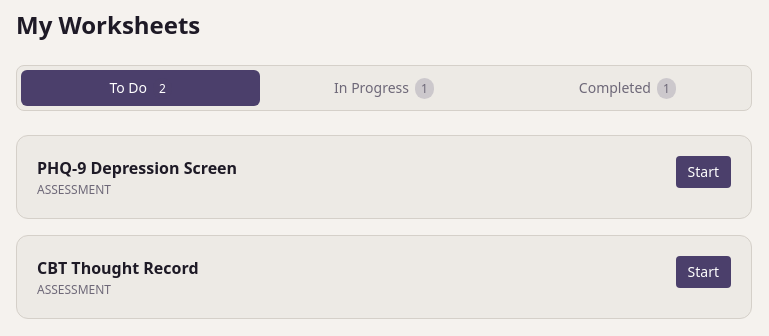
it: Client dashboard — assigned worksheets › clicking "In Progress" tab shows in-progress assignments
This screenshot has width=769, height=336.
Step 1. Click the tab "In Progress1" → click(384, 88), box x1=264 y1=70 x2=504 y2=106
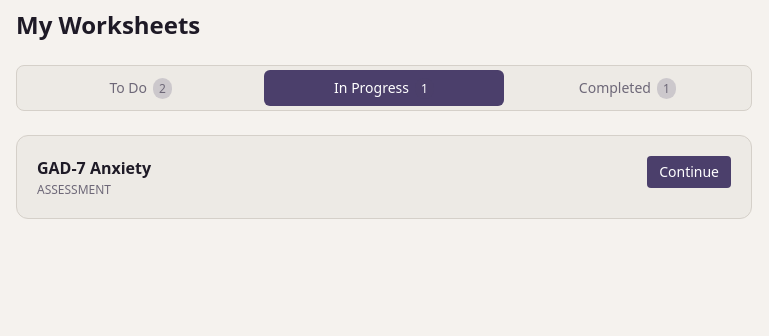
Expected: the heading "GAD-7 Anxiety" is shown, x1=37 y1=157 x2=151 y2=179
